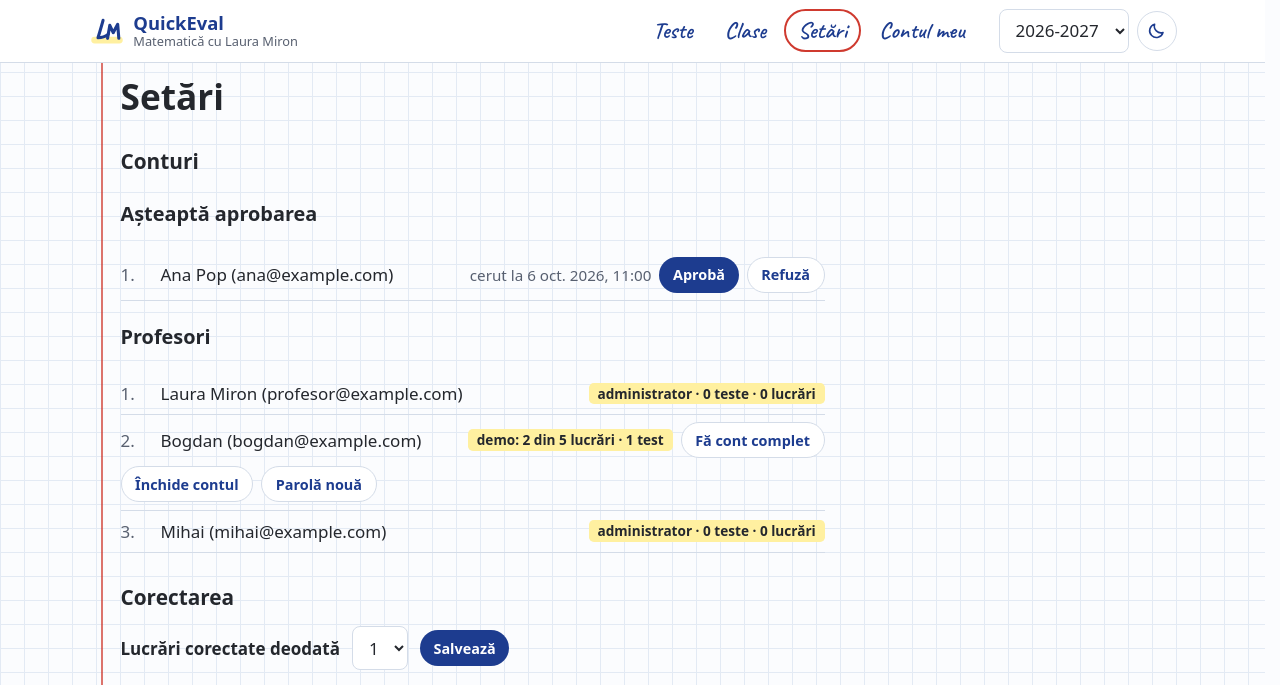
Scenario: the accounts on Setări › lists the accounts that wait and approves one
Check: the text "Ana Pop (ana@example.com)" is shown, box [160,261,393,288]
Click the button with aria-label "Aprobă Ana Pop" at {"x": 699, "y": 275}, box [659,257,739,293]
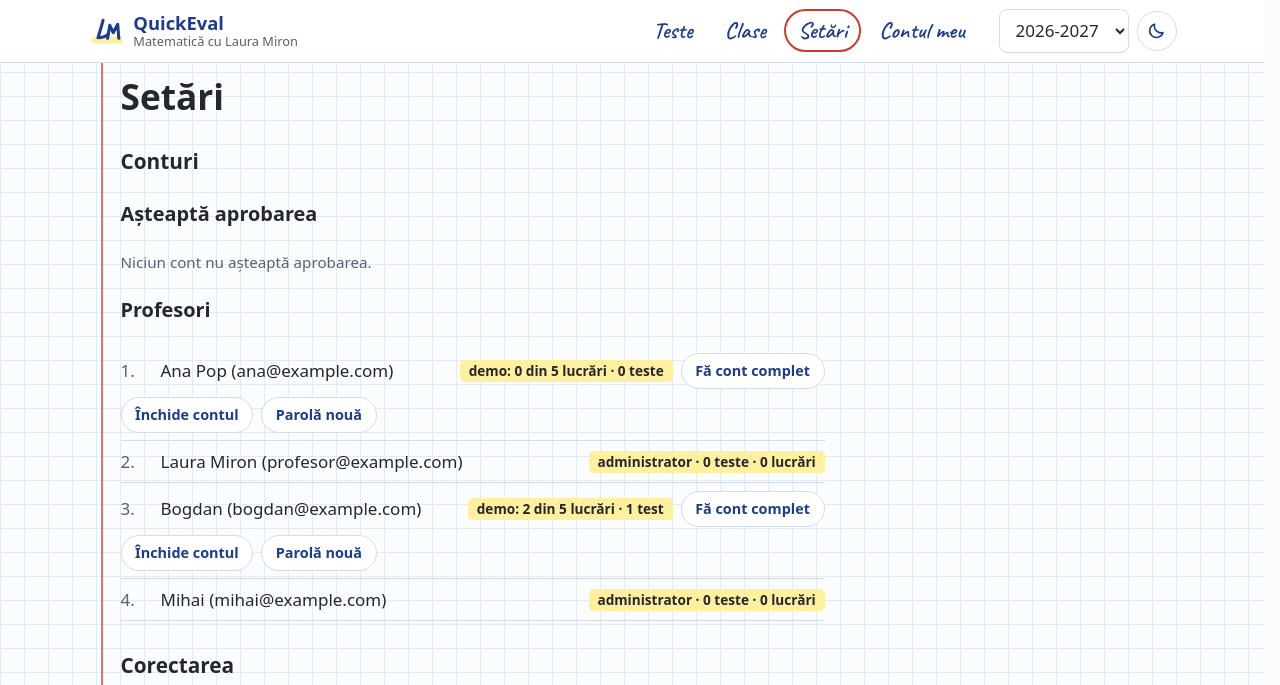
Check: the text "Ana Pop (ana@example.com)" is shown, box [160,357,393,384]
Check: the text "Niciun cont nu așteaptă aprobarea." is shown, box [120,252,372,272]
